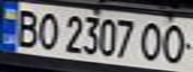0: (97, 15, 118, 57)
2: (60, 11, 84, 55)
3: (78, 12, 100, 56)
7: (115, 17, 139, 60)
B: (9, 6, 42, 48)
O: (157, 21, 193, 65), (136, 19, 166, 62), (33, 9, 63, 52)
